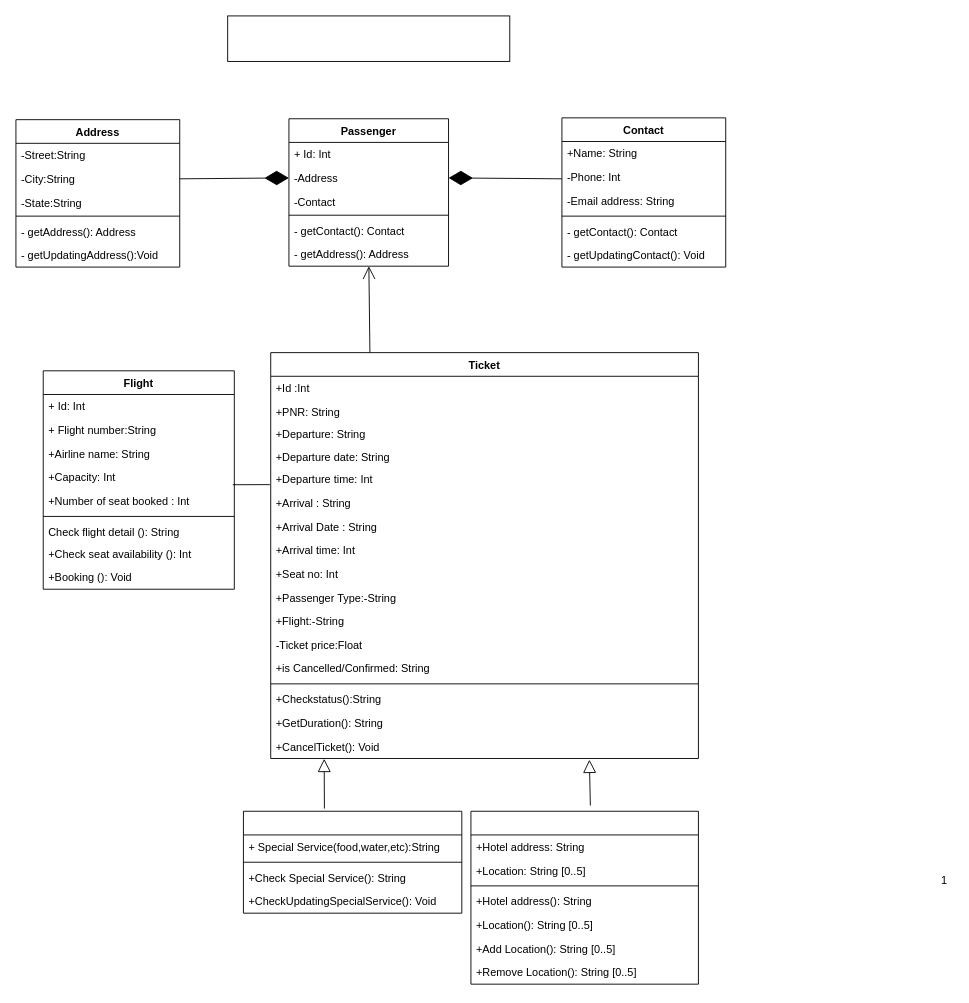
Image size: 969x1003. Some labels were removed from this diagram. The shapes that lost their labels are listed below. From the top down, each one's box as (x1, y1, x2, y2) in pixels, then its label:
(227, 15, 510, 61): Flight Reservation System
(243, 810, 462, 913): Regular Ticket
(470, 810, 698, 984): Tourist Ticket
